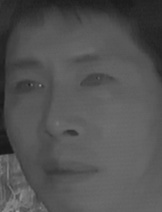eye: (78, 69, 116, 90), (12, 75, 46, 96)
mouth: (40, 153, 101, 189)
